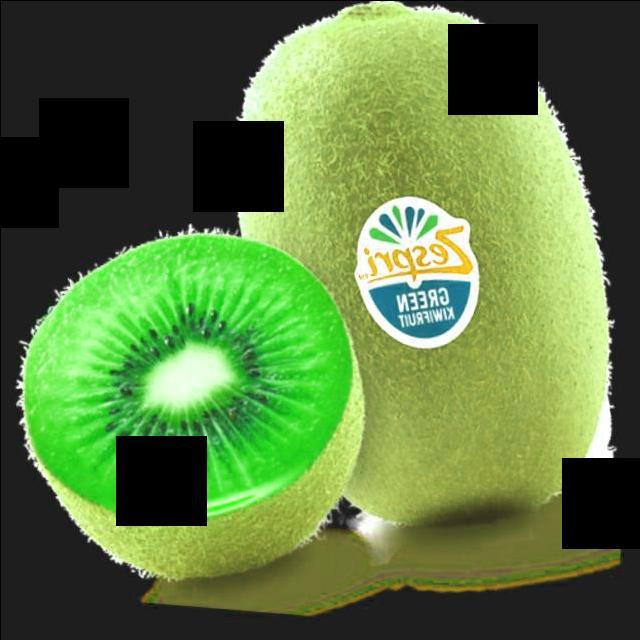kiwi: (184, 1, 640, 585)
